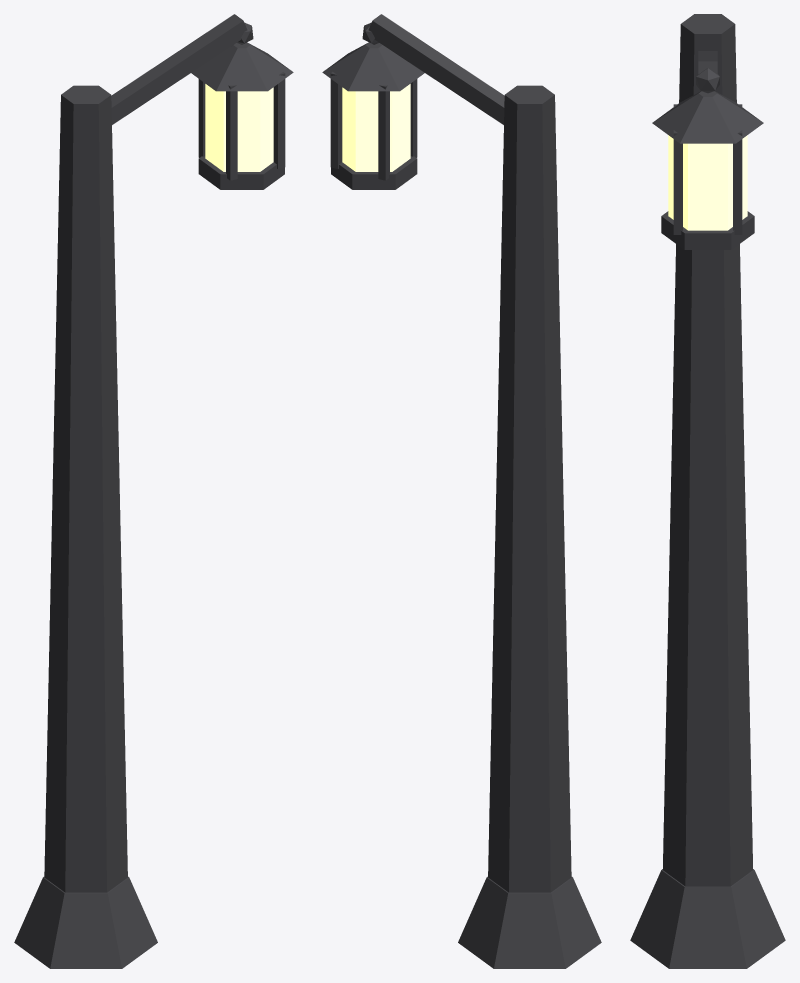
File: lantern_post.glb
3 views of the same model, side by side, from view 1: azimuth 30°, elevation 25°; view 2: azimuth 150°, elevation 25°; view 3: azimuth 270°, elevation 25° (orthographic). The views are drawn at different scales.
Visible parts, largest first — view 1: lantern_post; view 2: lantern_post; view 3: lantern_post.
Boxes of the visible parts, x1,y1,x2,y2 form: lantern_post: [14, 14, 293, 968]; lantern_post: [322, 14, 601, 968]; lantern_post: [630, 14, 785, 968].
Size of what is drawn, in the model's own units: 0.7979 by 2.72 by 0.4.
